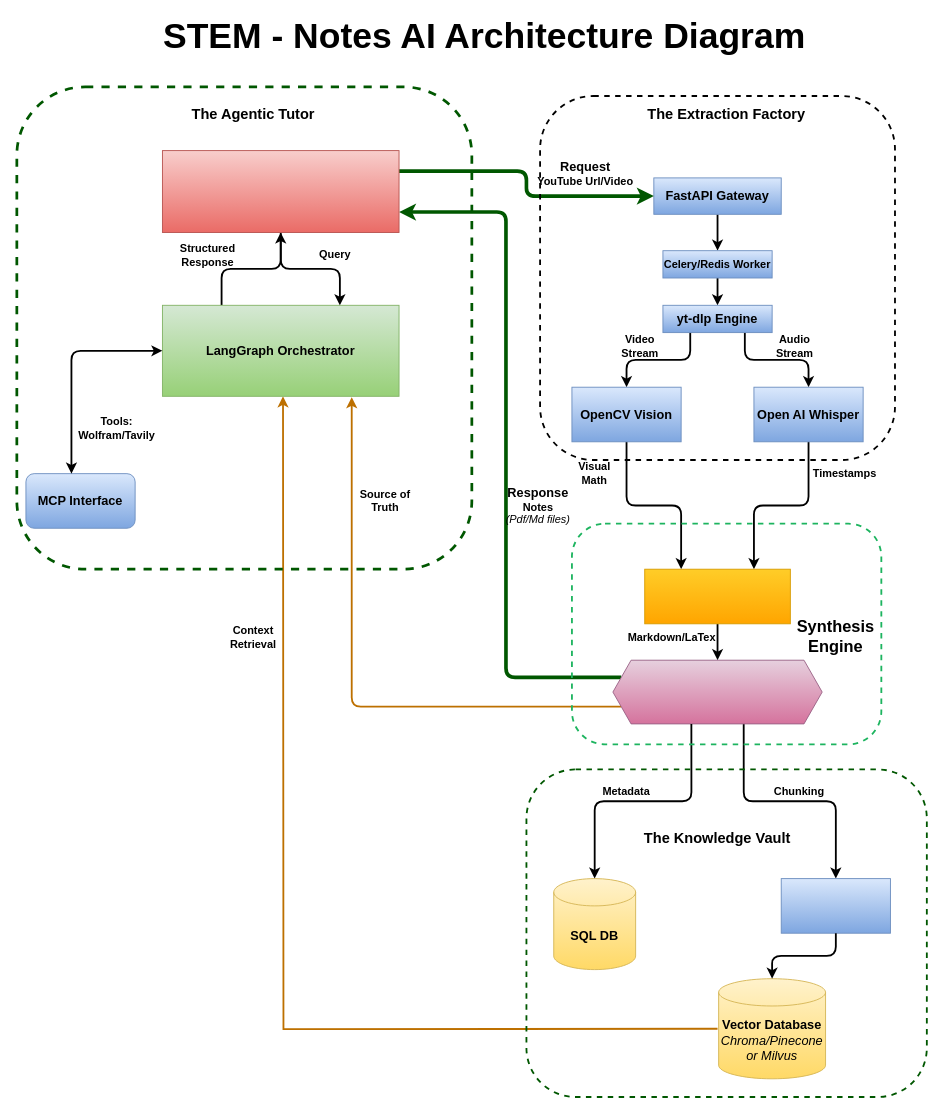
The diagram is 944 pixels wide and 1114 high, and some of its shapes have lost their labels. Each missing label, with the centre of its shape:
LLM Note Scribe: point (717, 596)
Master Study Notes PDF/MD File: point (717, 691)
User/Student: point (280, 191)
Vector Embeddings: point (835, 905)
